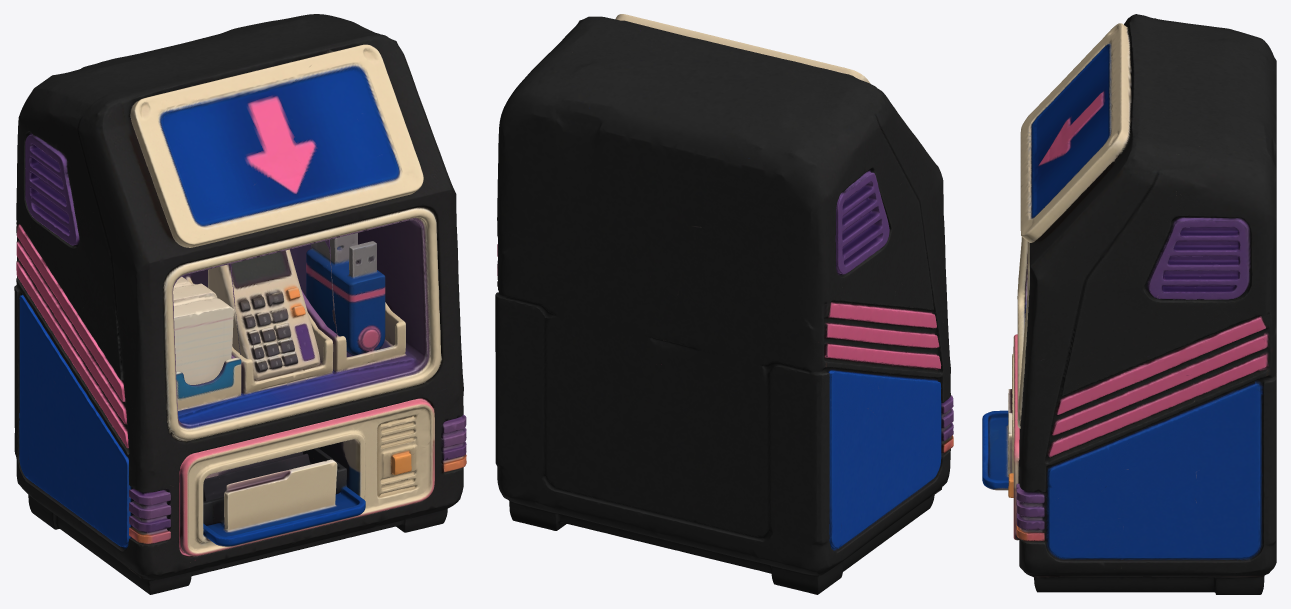
File: free-resources.glb
3 views of the same model, side by side, from view 1: azimuth 30°, elevation 25°; view 2: azimuth 150°, elevation 25°; view 3: azimuth 270°, elevation 25° (orthographic). The views are drawn at different scales.
Visible parts, largest first — view 1: mesh_node; view 2: mesh_node; view 3: mesh_node.
Part boxes in pixels (x1,y1,x2,y2): mesh_node: [14, 14, 466, 594]; mesh_node: [495, 14, 953, 594]; mesh_node: [982, 14, 1276, 594].
Bounding box in the file's own units: 1.43 × 1.9 × 1.14.
1 material, 1 textured.
